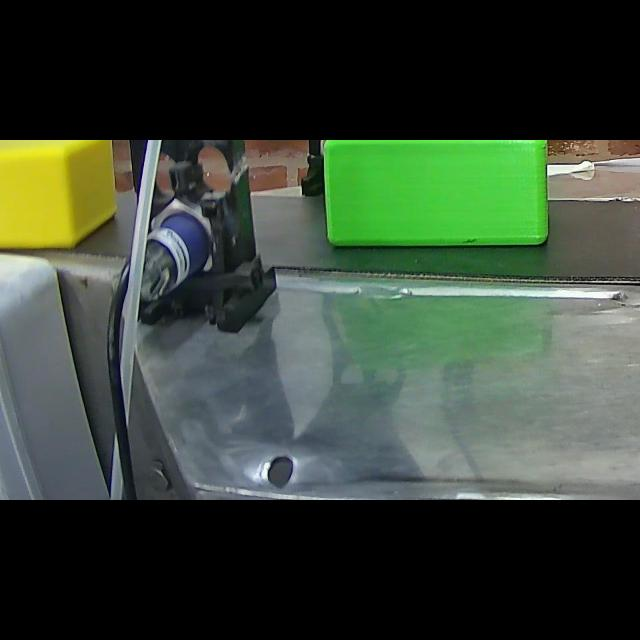greenBox: (317, 140, 557, 248)
yellowBox: (0, 140, 120, 256)
